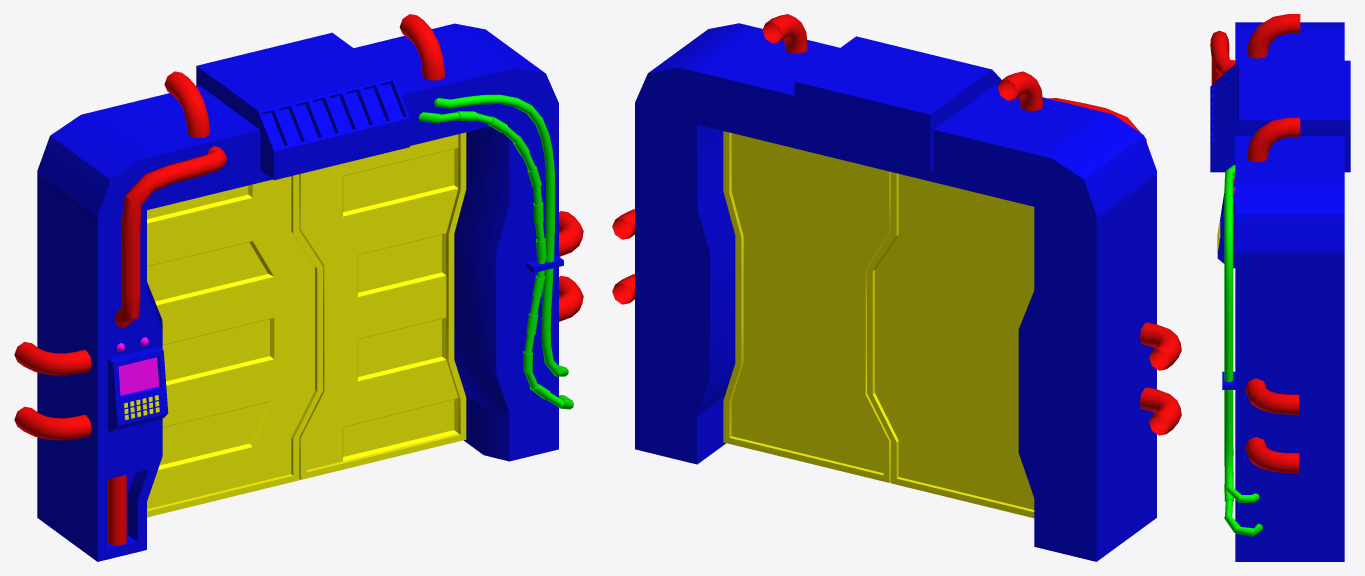
Rendered from door_new.fbx.
The picture shows the model from 3 angles, left to right: view 1: azimuth 30°, elevation 25°; view 2: azimuth 150°, elevation 25°; view 3: azimuth 270°, elevation 25°; orthographic projection. The views are drawn at different scales.
Parts seen in each view (by area): view 1: pCube11, pCube42, pCube43, pCube18, pCylinder13, pCube12, pCylinder6, pCylinder5, pCylinder18, pCylinder19, pCylinder17, pCylinder11 (+3 smaller); view 2: pCube11, pCube43, pCube42, pCube18, pCylinder19, pCylinder18, pCylinder17, pCylinder11; view 3: pCube11, pCube18, pCylinder5, pCylinder17, pCylinder11, pCylinder20, pCylinder21, pCylinder13, pCylinder6, pCube12.
Part boxes in pixels (x1,y1,x2,y2): pCube11: (37,23,558,561); pCube42: (147,174,322,517); pCube43: (299,132,466,479); pCube18: (196,32,409,180); pCylinder13: (114,146,227,327); pCube12: (108,346,168,431); pCylinder6: (419,111,573,409); pCylinder5: (434,94,568,376); pCylinder18: (14,342,91,375); pCylinder19: (14,406,91,440); pCylinder17: (399,14,445,80); pCylinder11: (164,71,209,137); pCube11: (635,23,1156,561); pCube43: (723,131,890,482); pCube42: (867,172,1034,517); pCube18: (794,36,1001,172); pCylinder19: (1139,387,1181,435); pCylinder18: (1139,322,1181,370); pCylinder17: (762,14,807,53); pCylinder11: (997,71,1043,111); pCube11: (1235,22,1344,561); pCube18: (1210,60,1350,172); pCylinder5: (1224,165,1259,502); pCylinder17: (1246,117,1300,162); pCylinder11: (1246,14,1300,58); pCylinder20: (1245,378,1299,414); pCylinder21: (1245,437,1299,472); pCylinder13: (1210,30,1235,84); pCylinder6: (1224,174,1262,536); pCube12: (1217,183,1235,268).
Bounding box in the file's own units: 383 × 287 × 92.5.
